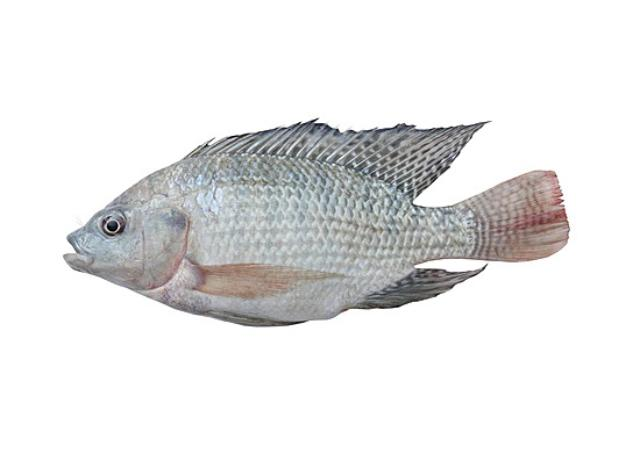Mulut: (43, 211, 109, 299)
Sirip Anal: (359, 262, 505, 326)
Sirip Dada: (188, 256, 354, 310)
Sirip Ekor: (455, 160, 591, 282)
Sirip Perut: (192, 300, 318, 350)
Sirip Punggung: (178, 107, 492, 210)
